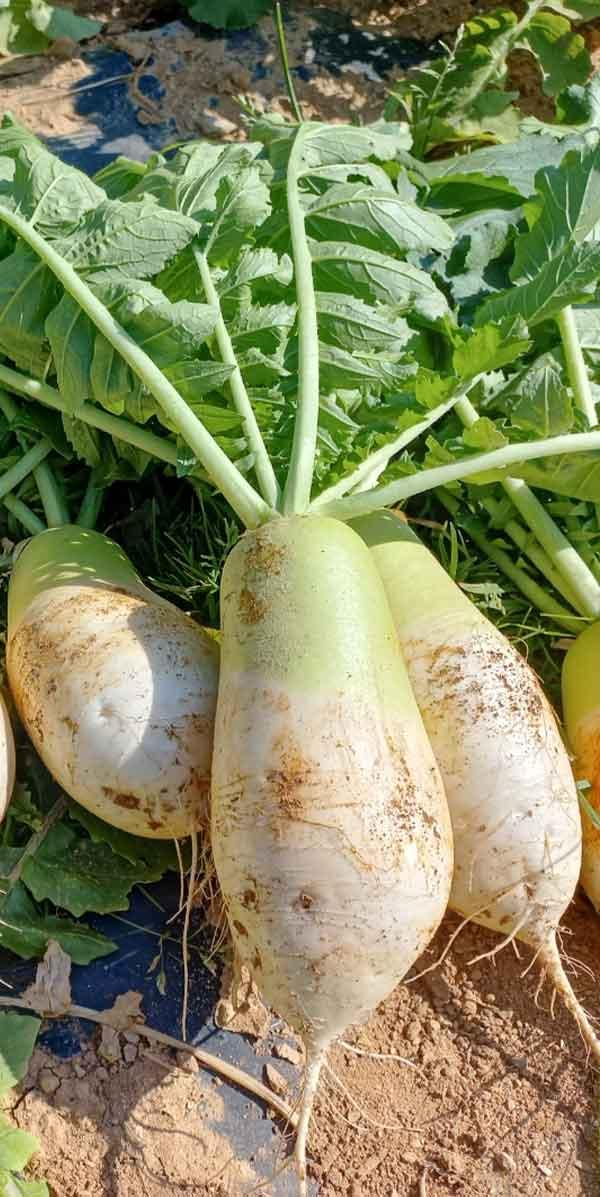radish: (183, 644, 428, 1197), (352, 780, 525, 1197), (14, 890, 228, 1197)
